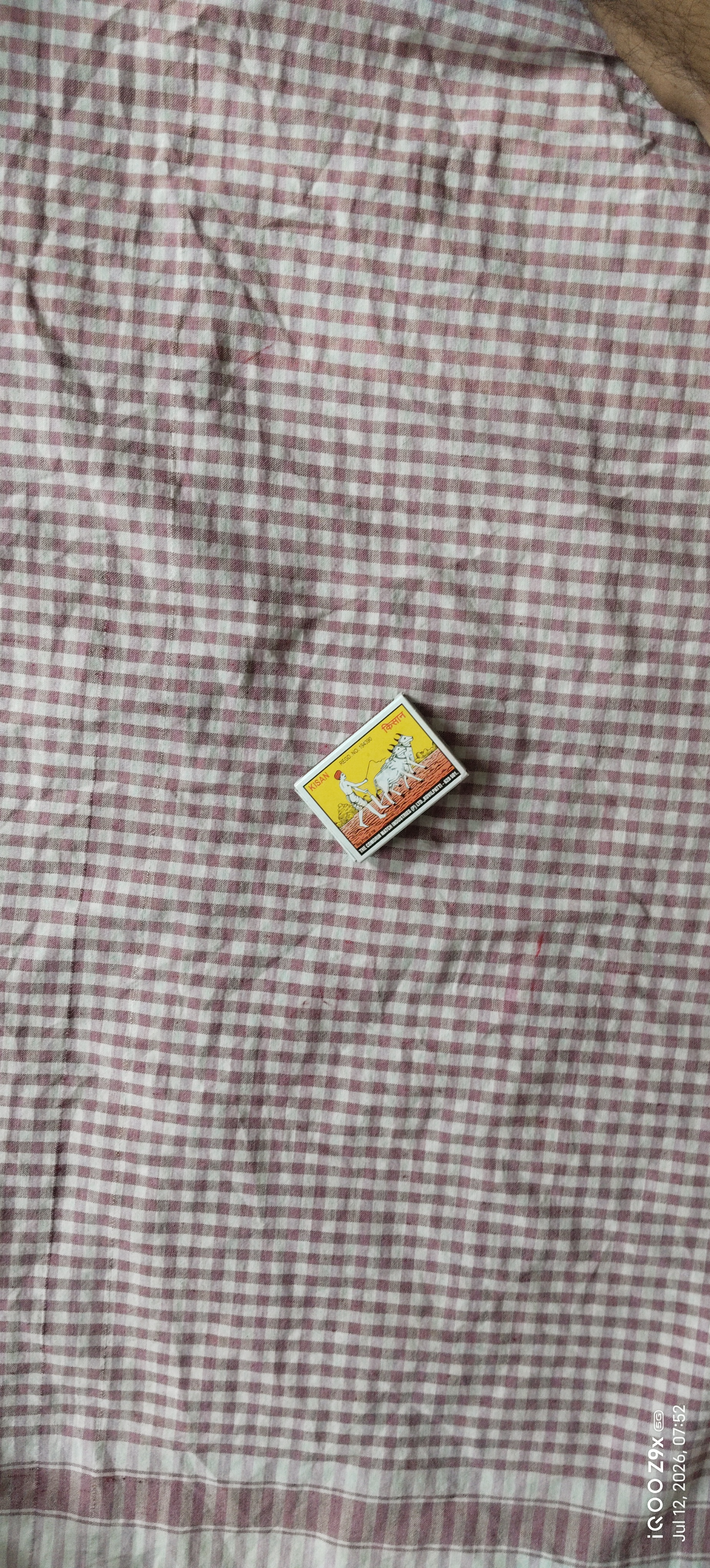matchbox: (252, 643, 495, 913)
